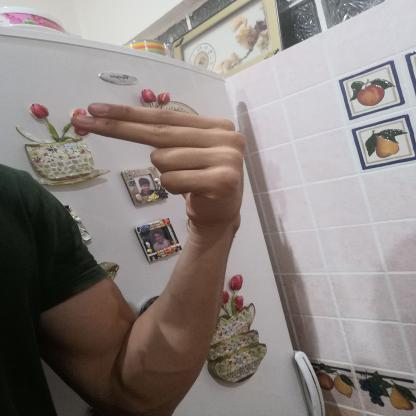AYN: (56, 90, 258, 244)
